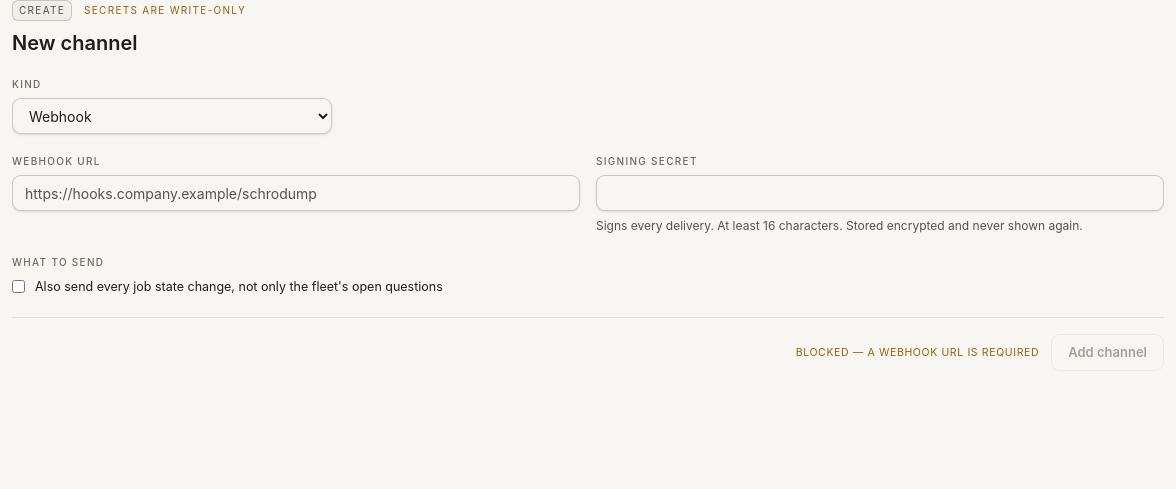
it: ChannelForm — the rules the server enforces are the rules the form states › names the field the server refused, for the rules the form does not know
The width and height of the screenshot is (1176, 489).
Type "https://hooks.example/y" into the field labelled "Webhook URL" at {"x": 296, "y": 193}, box [12,175,580,211]
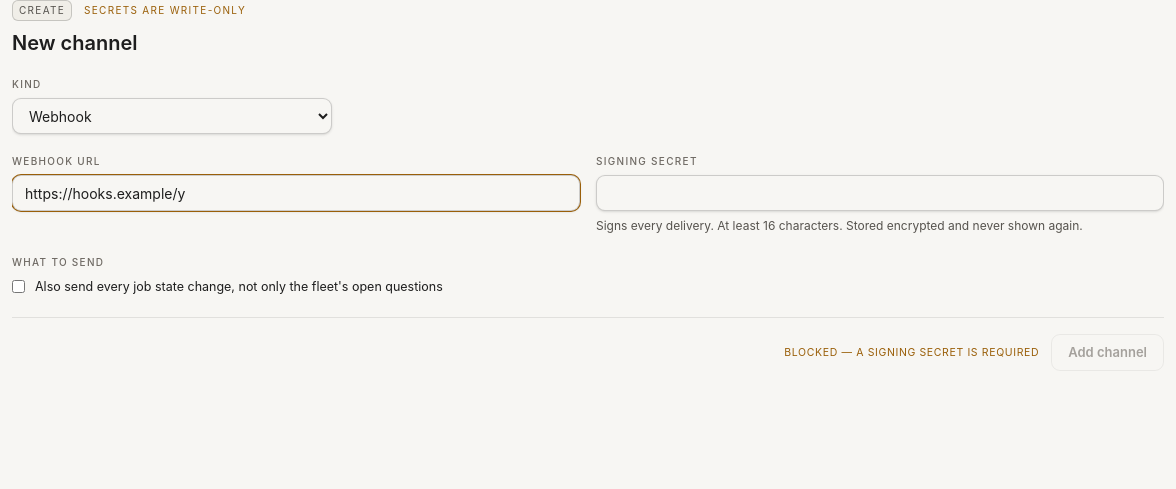
Type "a-signing-secret-value" into the password field labelled "Signing secret" at {"x": 880, "y": 193}, box [596,175,1164,211]
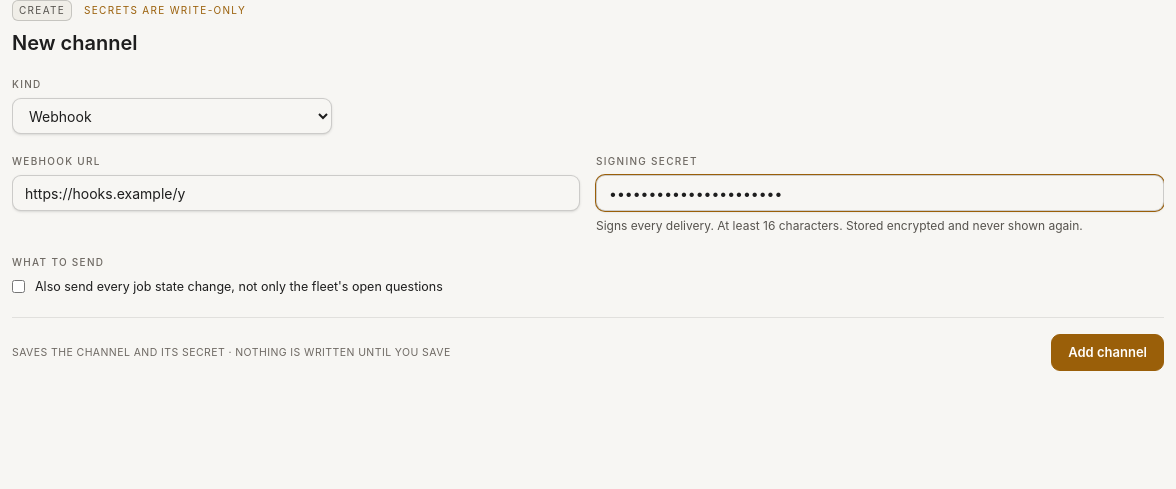
Click the button "Add channel" at {"x": 1108, "y": 353}, box [1051,334,1164,371]
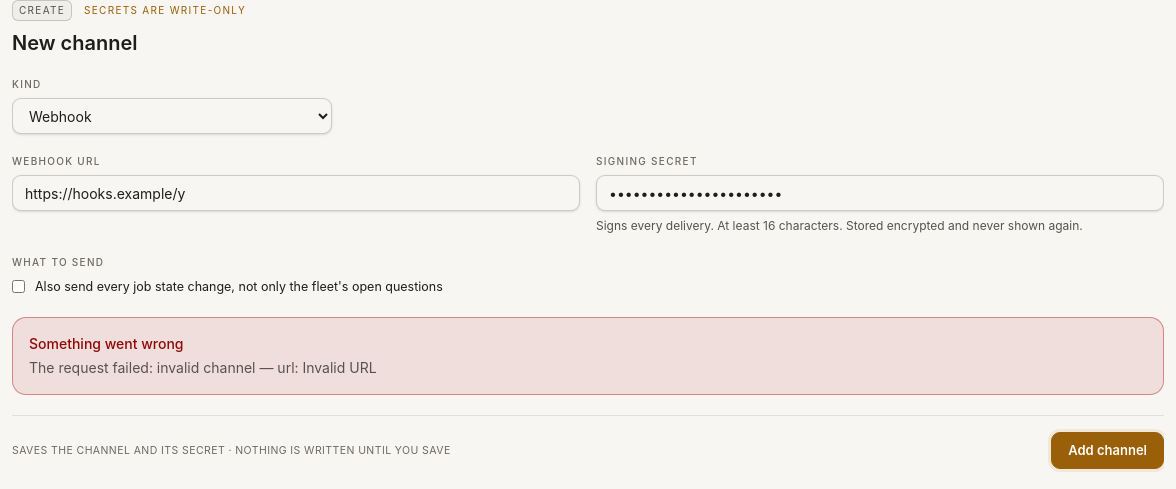
Expected: the text "The request failed: invalid channel — url: Invalid URL" is shown, [29,359,377,376]
